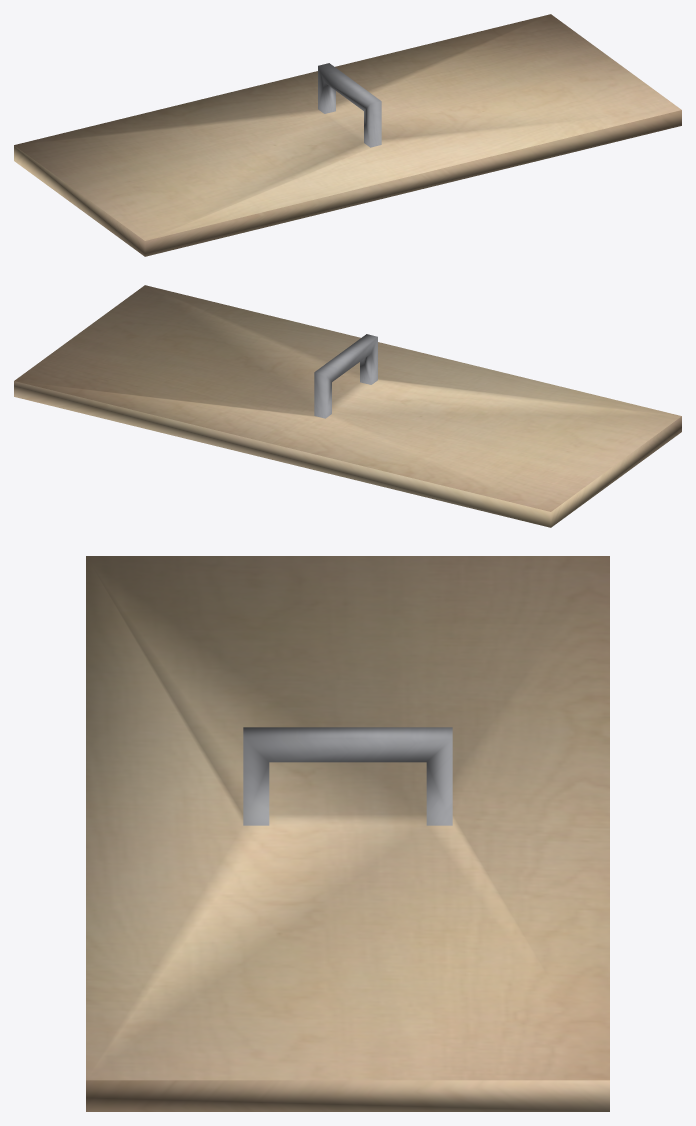
The model's file is sliding_door.obj.
3 renders of one model, top to bottom at view 1: azimuth 30°, elevation 25°; view 2: azimuth 150°, elevation 25°; view 3: azimuth 270°, elevation 25°, orthographic. The views are drawn at different scales.
Parts seen in each view (by area): view 1: sliding_door; view 2: sliding_door; view 3: sliding_door.
Boxes of the visible parts, x1,y1,x2,y2 form: sliding_door: (14, 14, 681, 256); sliding_door: (14, 285, 681, 527); sliding_door: (86, 556, 609, 1111).
Size of the model in its own units: 0.71 by 0.075 by 0.3.
